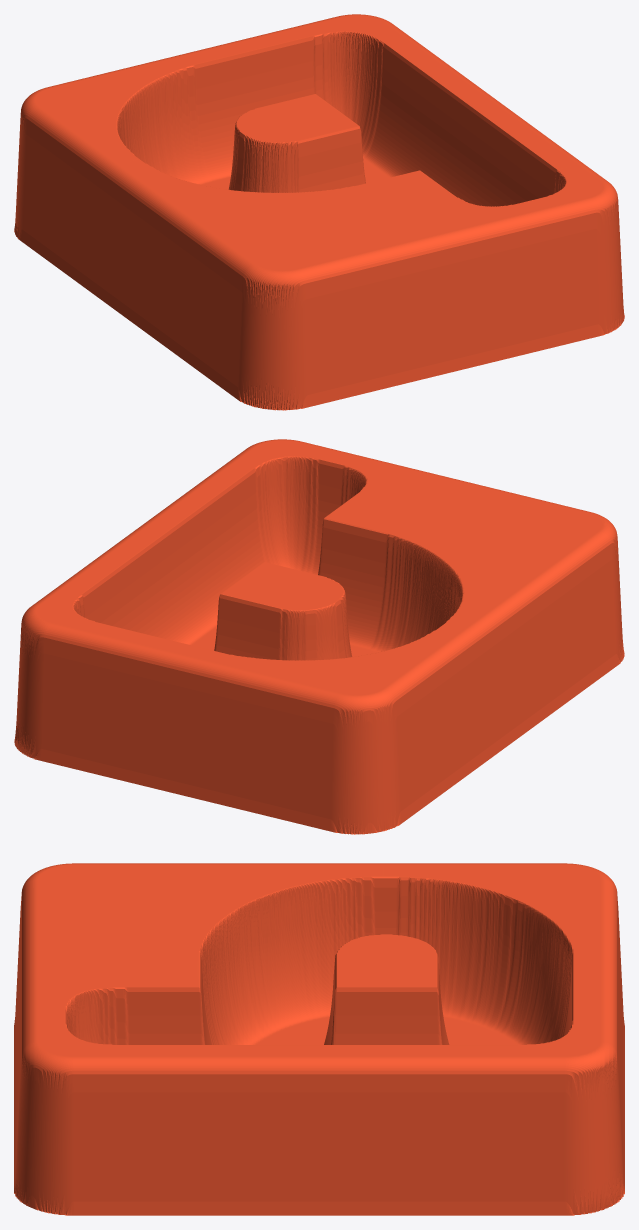
Rendered from mold.glb.
The picture shows the model from 3 angles, top to bottom: view 1: azimuth 30°, elevation 25°; view 2: azimuth 150°, elevation 25°; view 3: azimuth 270°, elevation 25°; orthographic projection. The views are drawn at different scales.
Visible parts, largest first — view 1: geometry_0; view 2: geometry_0; view 3: geometry_0.
Part boxes in pixels (left/top/right/bottom): geometry_0: left=14, top=14, right=624, bottom=410; geometry_0: left=14, top=439, right=624, bottom=834; geometry_0: left=14, top=863, right=624, bottom=1215.
Size of the model in its own units: 0.0758 by 0.0248 by 0.0924.
